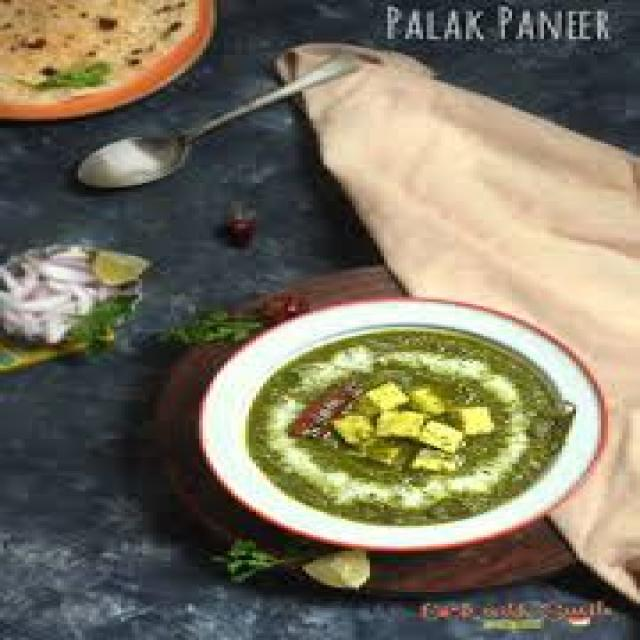Palak Paneer: (245, 326, 574, 526)
